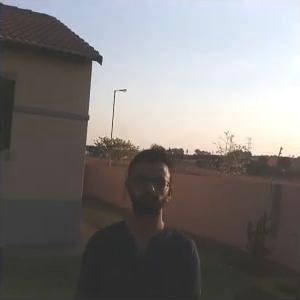follow: (69, 141, 202, 298)
